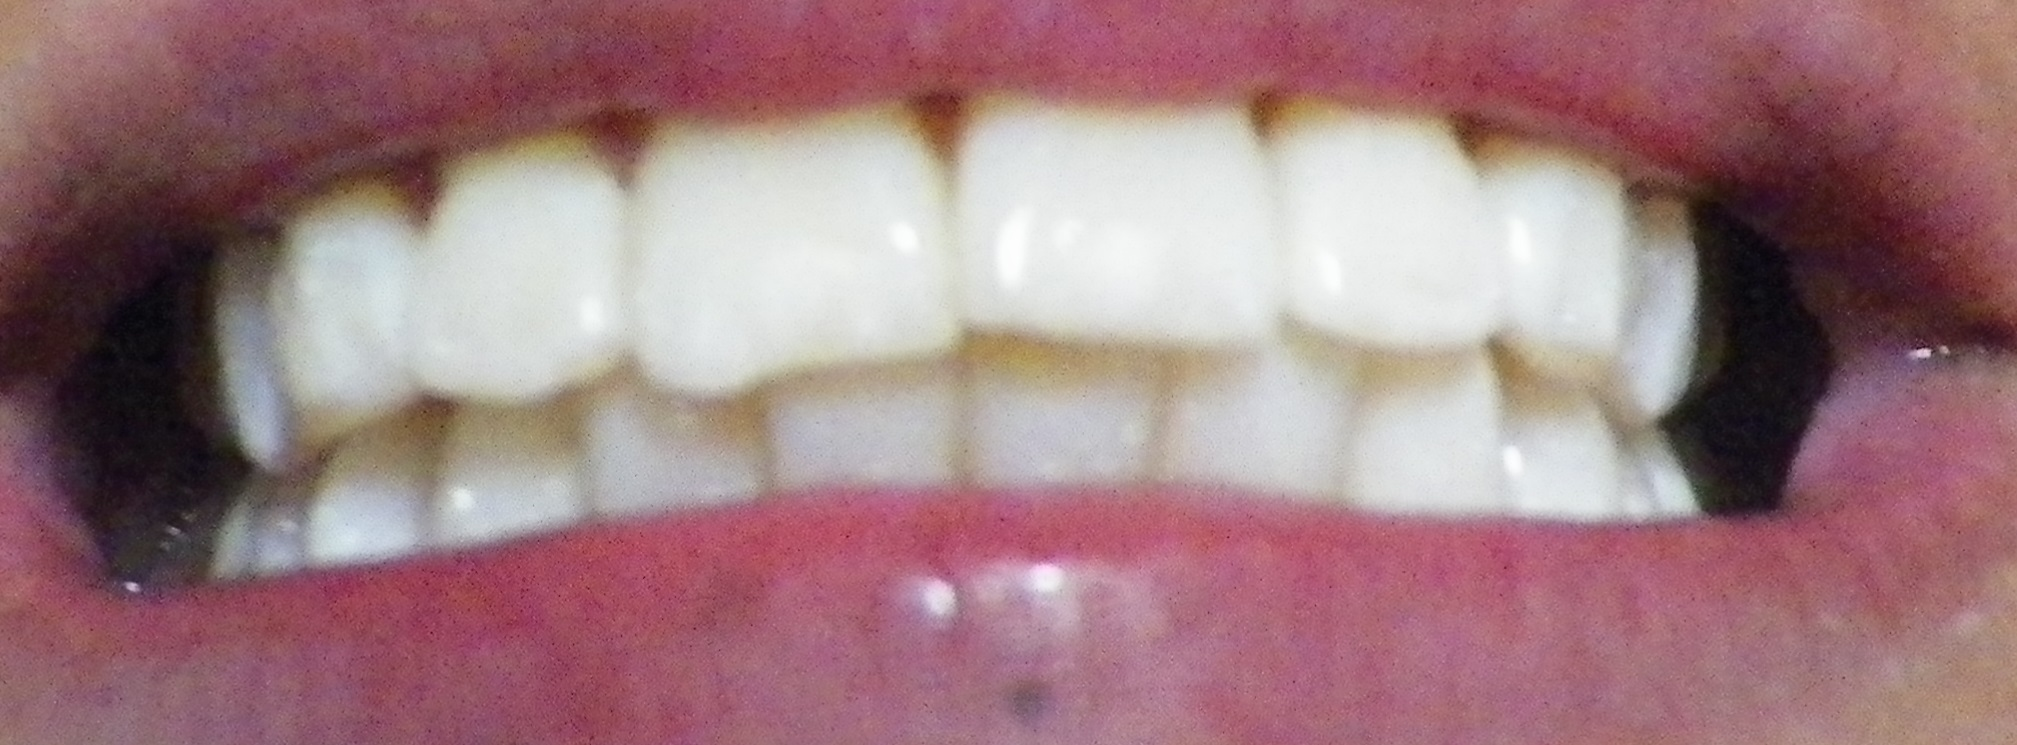boca: (217, 98, 1729, 551)
